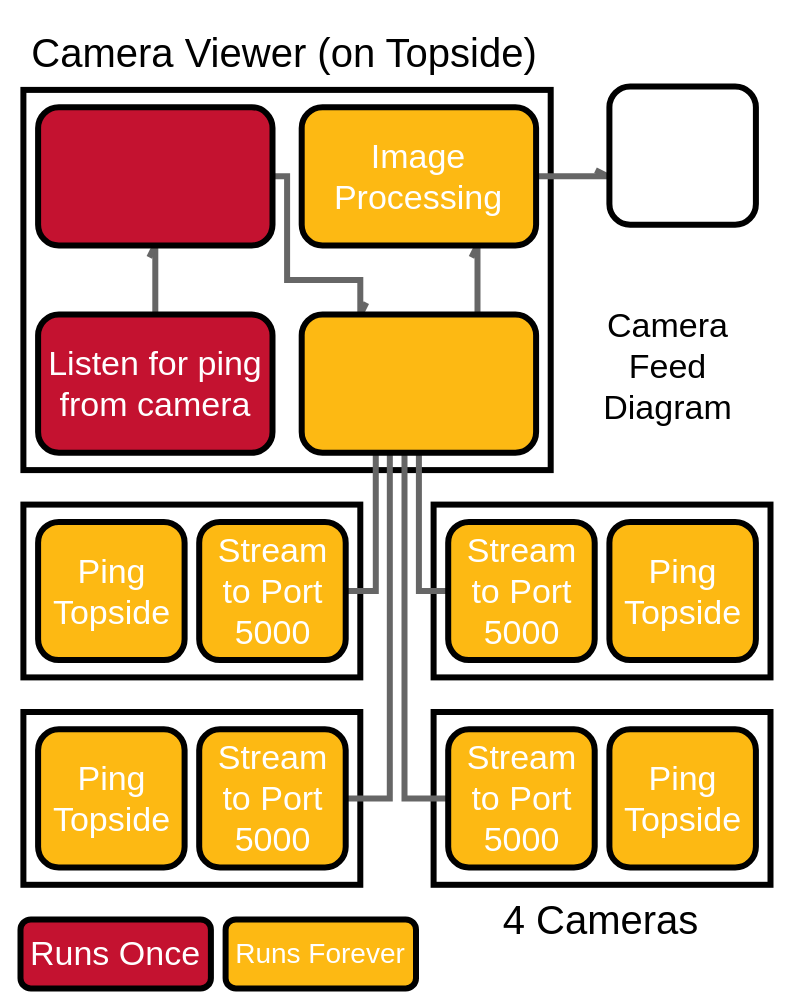
Some shapes in this 790 by 1008 pixel diagram are drawn without their labels. Each missing label, with the centre of its shape:
"Camera Display" goes at point (682, 155).
"Capture video on IP:5000" goes at point (418, 383).
"Register Cam IP Address" goes at point (155, 176).
